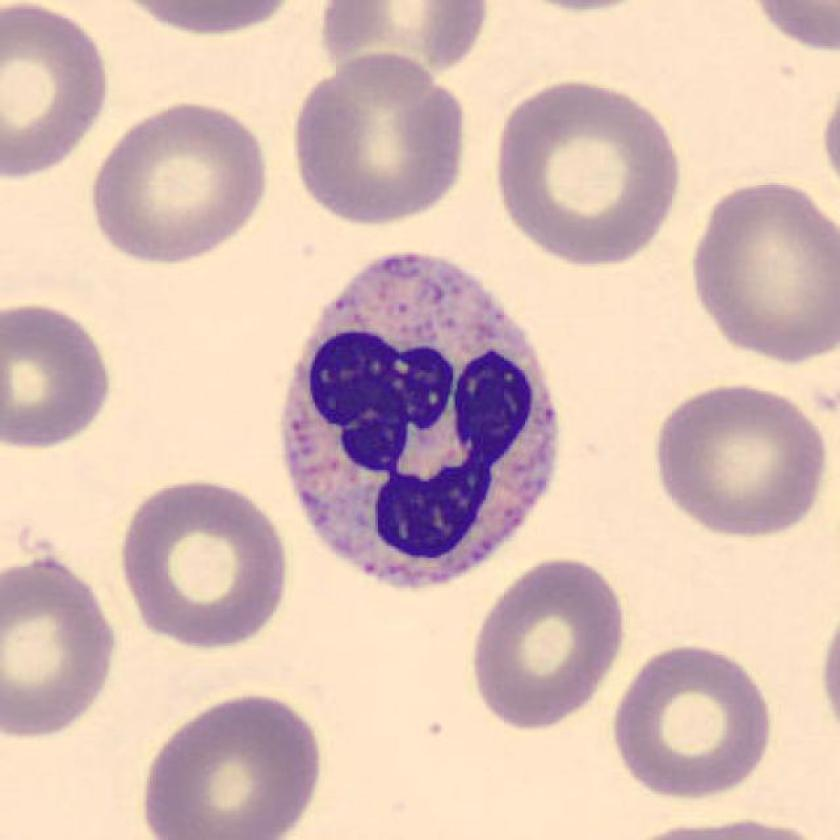neutrophil: (283, 254, 556, 581)
